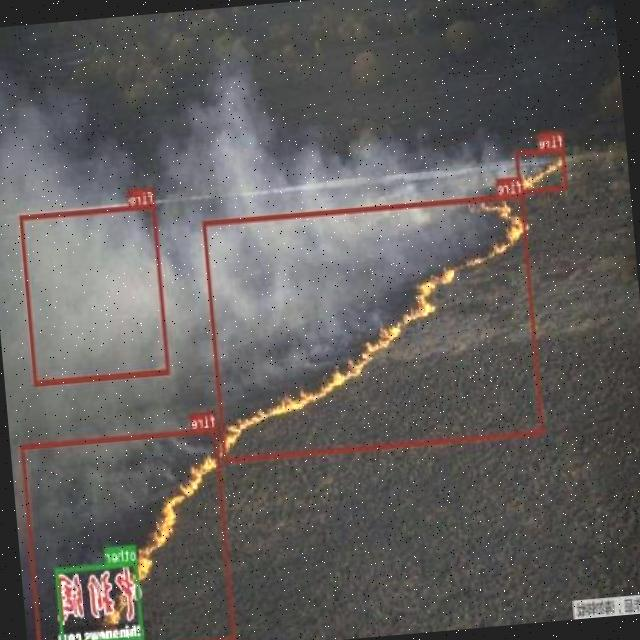fire: (203, 193, 545, 461), (21, 425, 236, 640), (19, 202, 170, 384), (516, 146, 568, 192)
